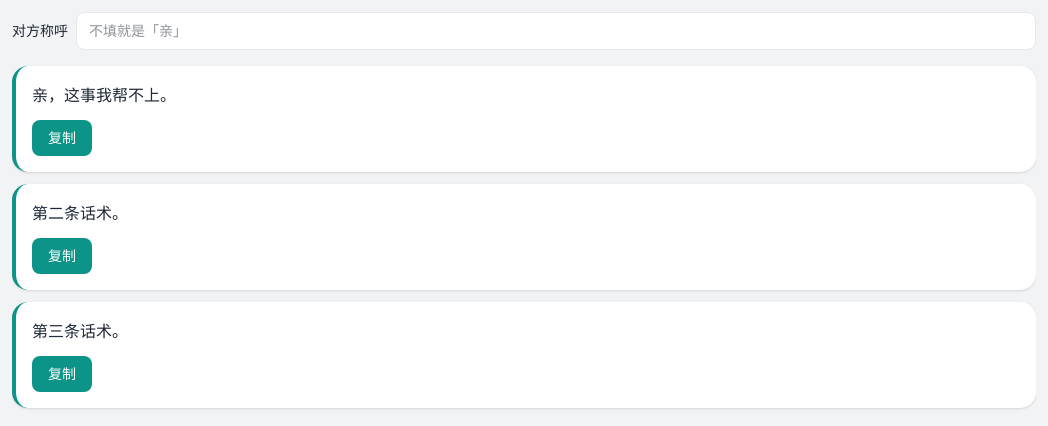
Test case: PhraseList › 输入称呼后实时替换
Type "王总" into the field labelled "对方称呼" at (556, 31), box left=76, top=12, right=1036, bottom=50
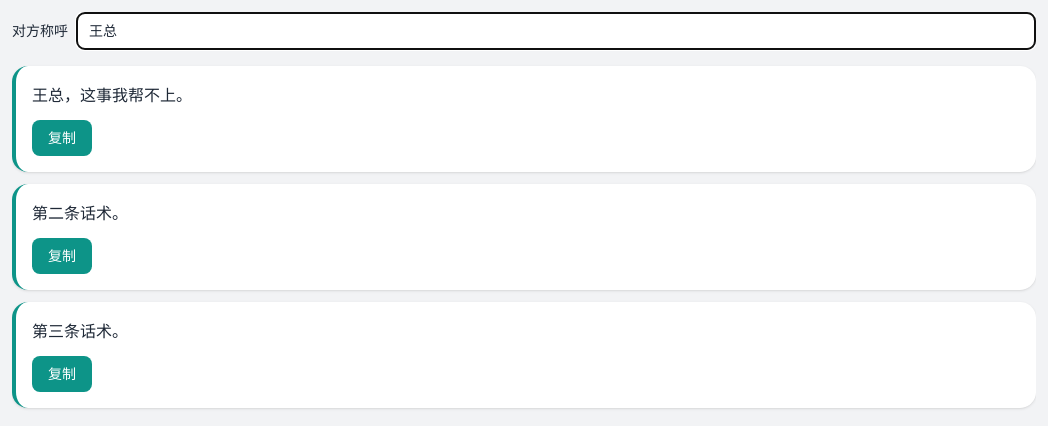
Result: the text "王总，这事我帮不上。" is shown at left=32, top=85, right=192, bottom=105
